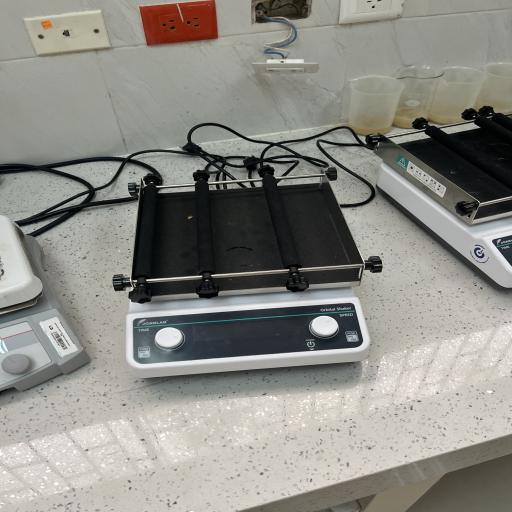Agitador_Orbital_DLAB: (108, 163, 414, 394)
